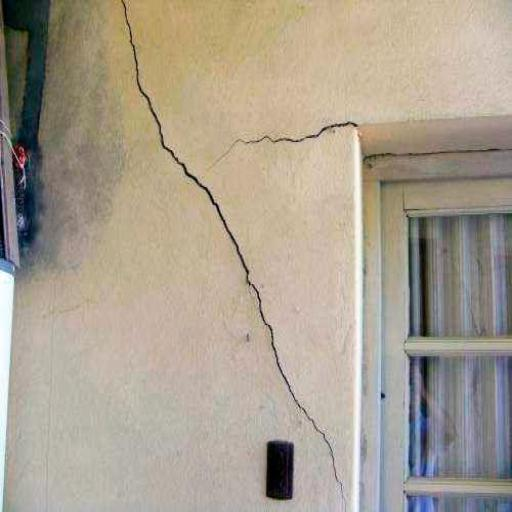spalling: (117, 8, 350, 487), (209, 116, 359, 170)
